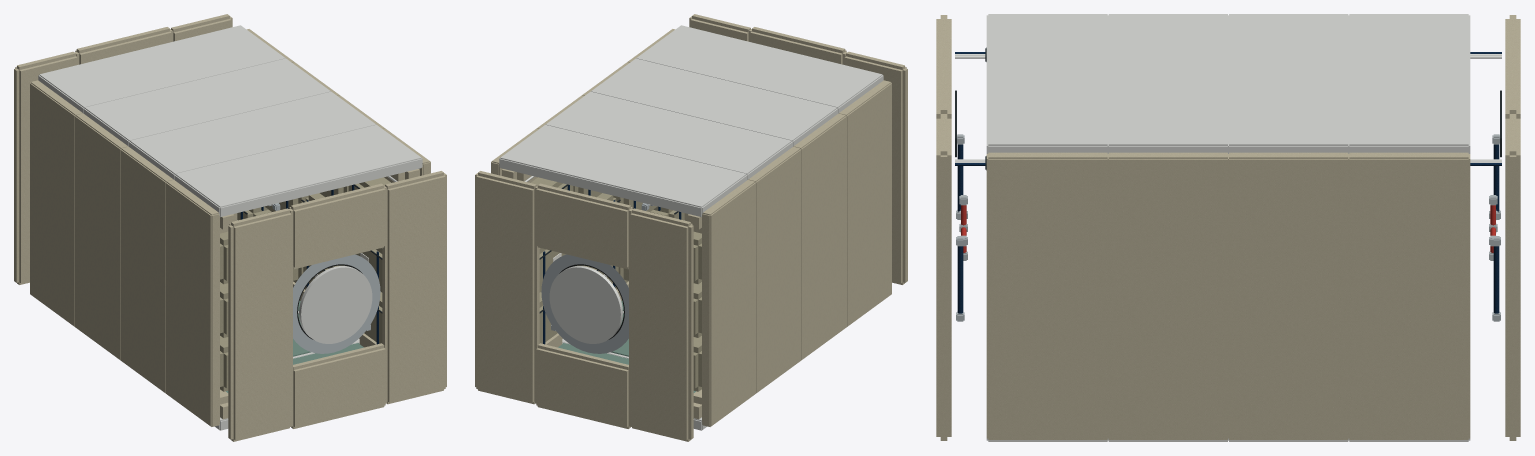
File: rassvet_optimized.glb
3 views of the same model, side by side, from view 1: azimuth 30°, elevation 25°; view 2: azimuth 150°, elevation 25°; view 3: azimuth 270°, elevation 25° (orthographic). The views are drawn at different scales.
Visible parts, largest first — view 1: rassvet_interior; view 2: rassvet_interior; view 3: rassvet_interior.
Part boxes in pixels (<box>): rassvet_interior: <box>14,14,446,441</box>; rassvet_interior: <box>475,14,907,441</box>; rassvet_interior: <box>936,14,1520,441</box>.
Size of the model in its own units: 3.09 by 3 by 5.34.
11 materials, 3 textured.
